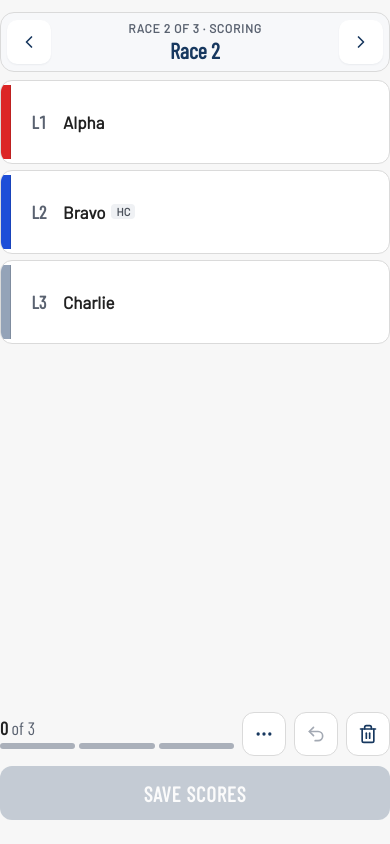
Test: hors concours › treats the team as HC in the summary straight away
This screenshot has width=390, height=844.
Click the button named "Race tools": (264, 734) [242, 712, 286, 756]
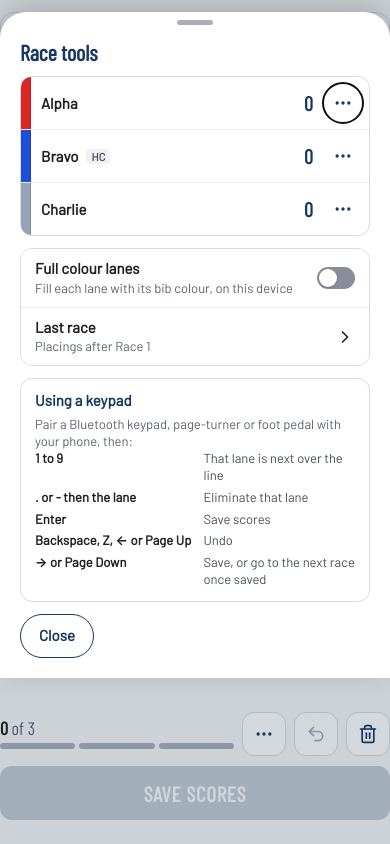
Click the button "Last race Placings after Race 1": (65, 327) [21, 307, 369, 365]
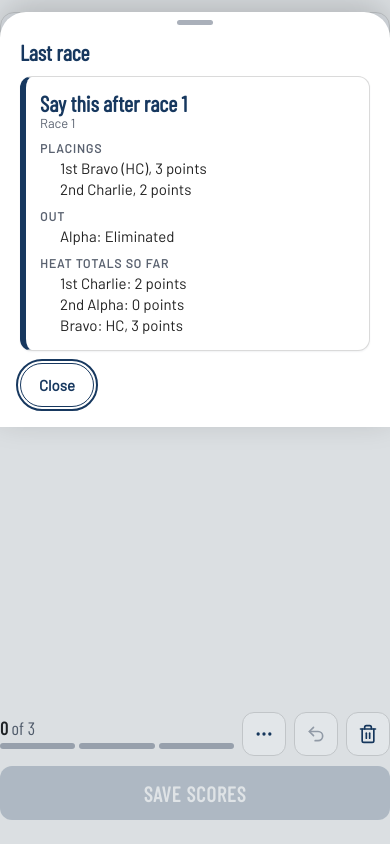
Expected: the element named "Announcer summary for Race 1" shows "Bravo (HC), 3 points", [20, 76, 370, 351]
Expected: the element named "Announcer summary for Race 1" shows "Bravo: HC, 3 points", [60, 316, 183, 334]
Expected: the element named "Announcer summary for Race 1" shows "1st Charlie: 2 points", [60, 274, 187, 292]
